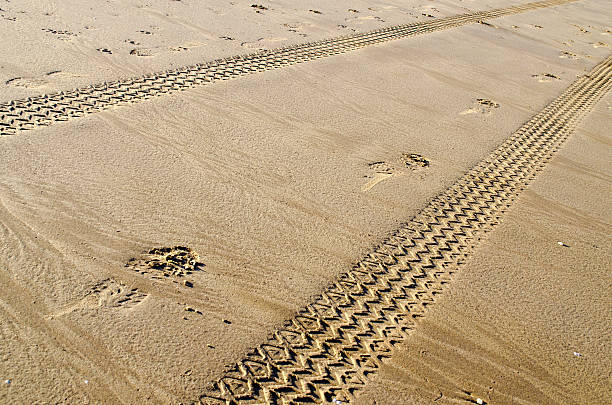vehicle_track: (199, 56, 611, 404), (0, 0, 576, 134)
